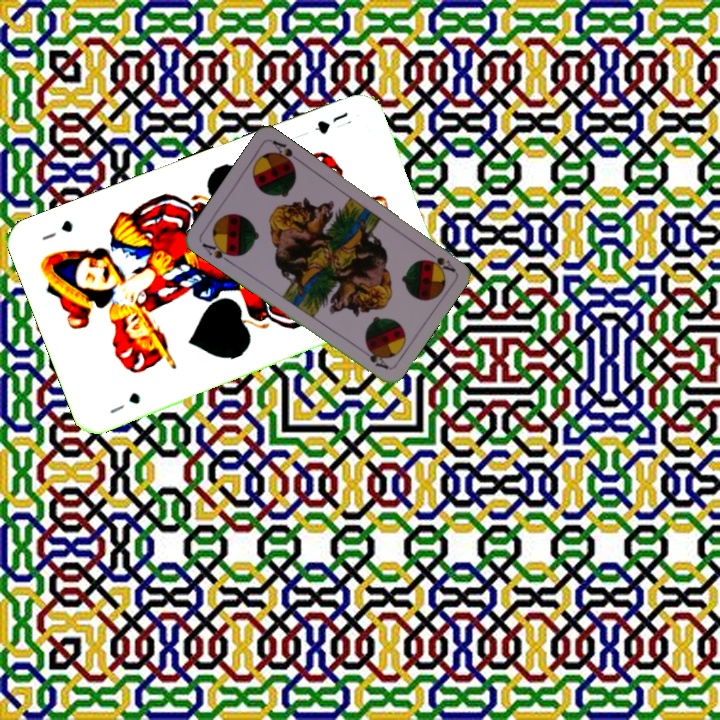GU: (311, 108, 355, 137), (105, 388, 143, 417)
SA: (198, 237, 237, 266), (421, 246, 457, 274)
